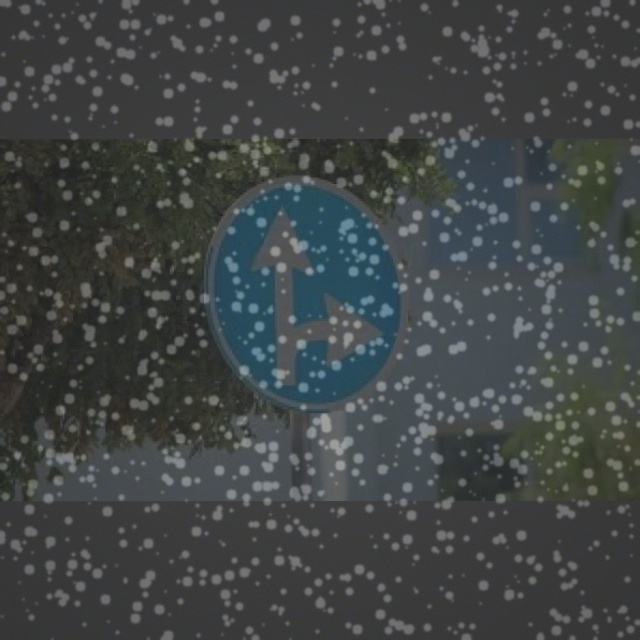Compulsory_Ahead_or_Turn_Right: (209, 175, 414, 414)
